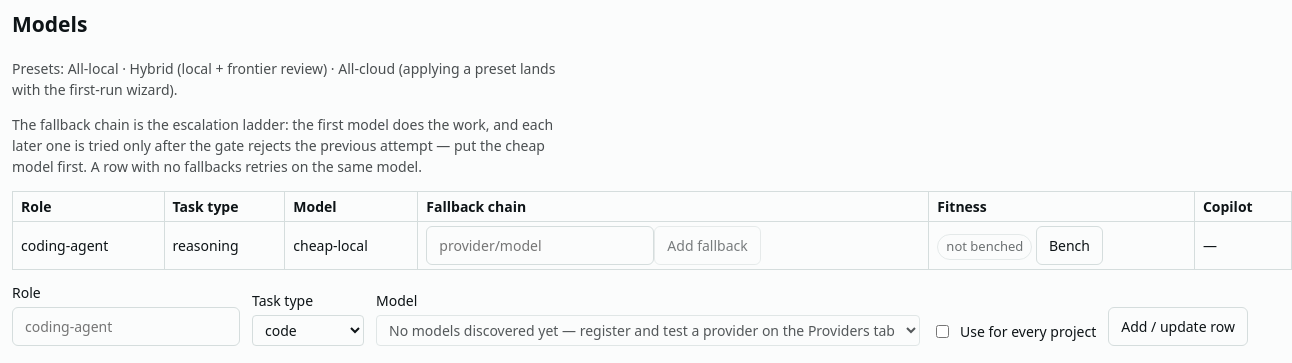
Test case: the fitness column earns its place (W19-06) › a failed bench says so and keeps the action available — never a fabricated verdict (C-1)
Step 1. Click the button with test id "bench-coding-agent-reasoning" → click(1069, 246), box [1036,226,1103,265]
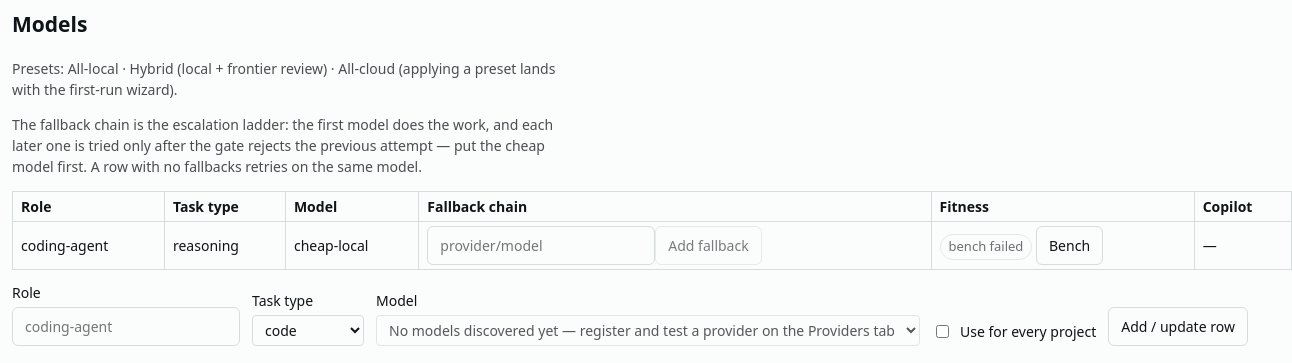
Now the text "bench failed" is shown, box [940,234,1032,260]
